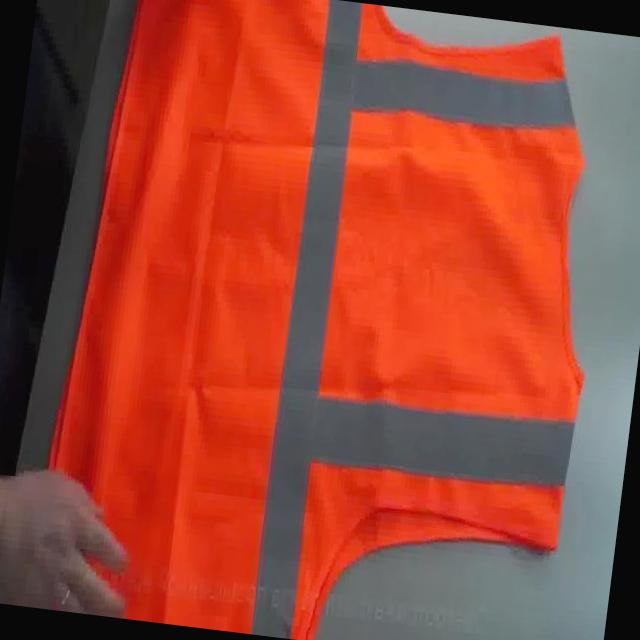vest: (27, 0, 628, 640)
